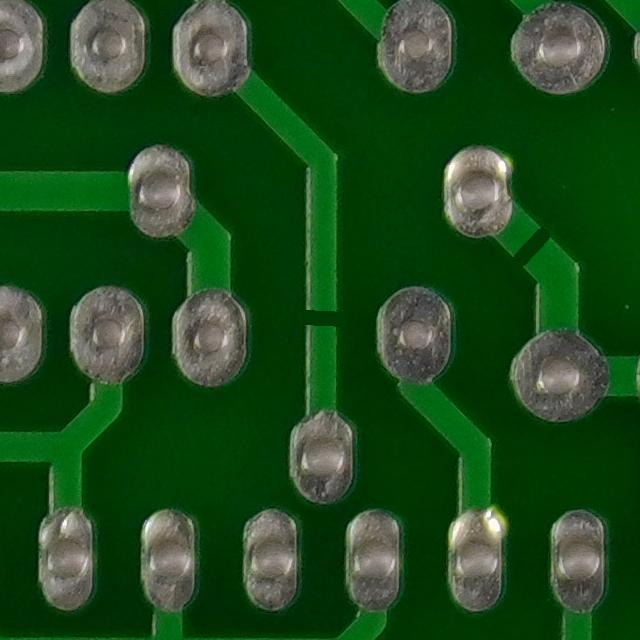open_circuit: (288, 289, 352, 352)
